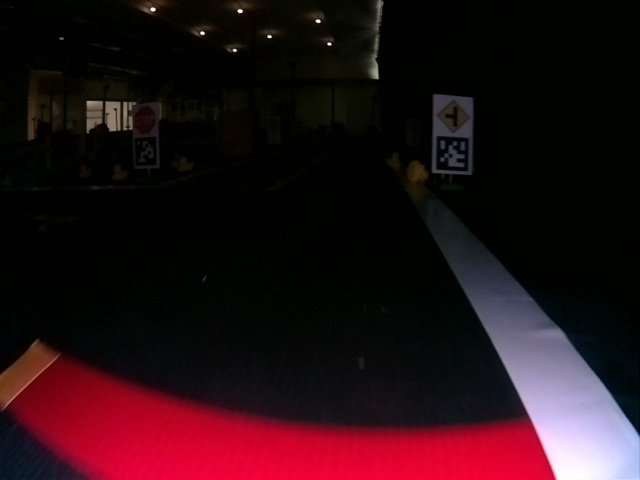Duckie: (408, 161, 426, 182), (177, 156, 191, 173), (389, 157, 399, 166)
Intersection sign: (437, 99, 470, 131)
QR code: (440, 140, 470, 172), (133, 138, 157, 165)
Stop sign: (132, 108, 154, 131)
